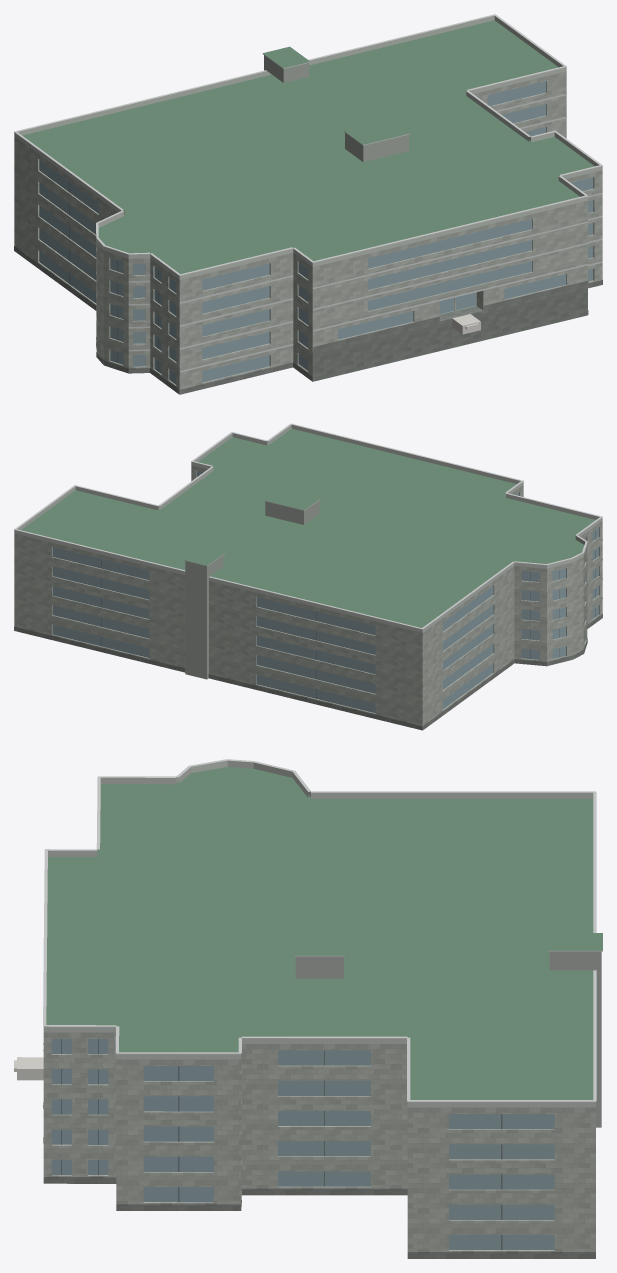
3 renders of one model, top to bottom at view 1: azimuth 30°, elevation 25°; view 2: azimuth 150°, elevation 25°; view 3: azimuth 270°, elevation 25°, orthographic. The views are drawn at different scales.
Parts seen in each view (by area): view 1: b70__roof, b70__wall, b70__glass, b70__base, b70__trim, b70__parapet, b70__wall2; view 2: b70__roof, b70__wall, b70__glass, b70__parapet, b70__wall2, b70__trim, b70__base; view 3: b70__roof, b70__wall, b70__glass, b70__parapet, b70__trim, b70__base, b70__wall2, b70__entranceStair.
Boxes of the visible parts, x1,y1,x2,y2 form: b70__roof: (22,20,594,380); b70__wall: (14,71,602,394); b70__glass: (39,81,593,384); b70__base: (14,246,602,394); b70__trim: (14,14,602,372); b70__parapet: (14,15,602,279); b70__wall2: (264,55,408,162); b70__roof: (21,428,595,627); b70__wall: (14,465,602,729); b70__glass: (53,471,598,713); b70__parapet: (14,424,602,632); b70__wall2: (185,500,319,679); b70__trim: (14,423,602,629); b70__base: (14,614,602,730); b70__roof: (46,767,602,1194); b70__wall: (43,1032,595,1251); b70__glass: (51,1039,554,1249); b70__parapet: (43,760,595,1107); b70__trim: (43,759,602,1173); b70__base: (43,1102,595,1258); b70__wall2: (295,951,601,1127); b70__entranceStair: (14,1057,43,1080).
Size of the model in its own units: 87.49 by 21.17 by 63.6.
Materials: 10 (2 with a texture image).
